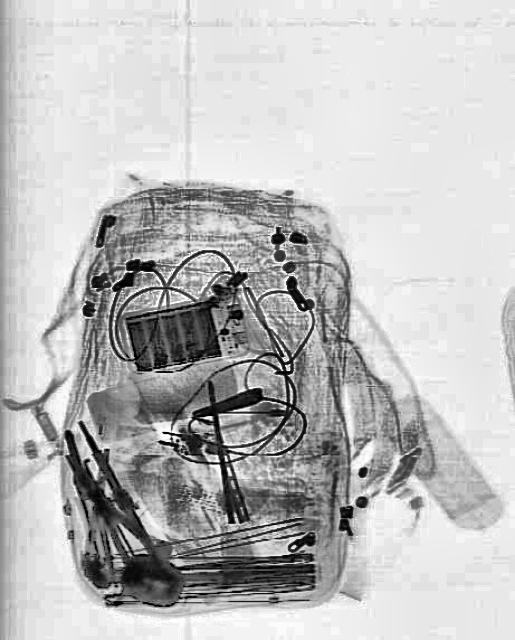Pliers: (46, 439, 162, 593)
